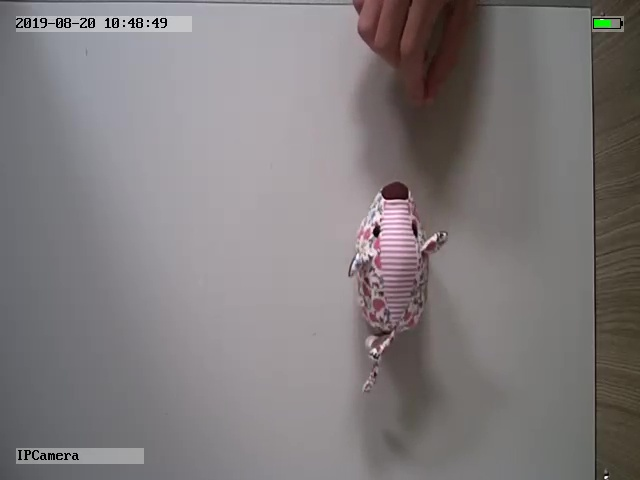pig: (347, 180, 450, 395)
